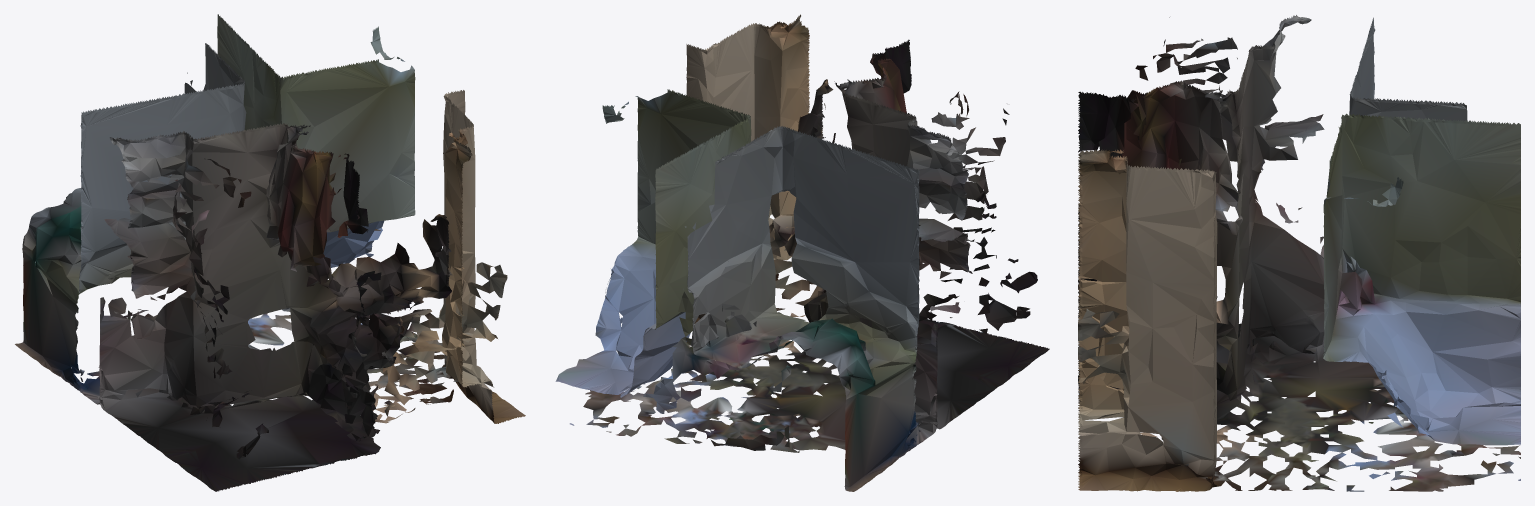
The model's file is coarse.glb.
3 views of the same model, side by side, from view 1: azimuth 30°, elevation 25°; view 2: azimuth 150°, elevation 25°; view 3: azimuth 270°, elevation 25° (orthographic). The views are drawn at different scales.
Bounding box in the file's own units: 1.59 × 1.39 × 1.78.
